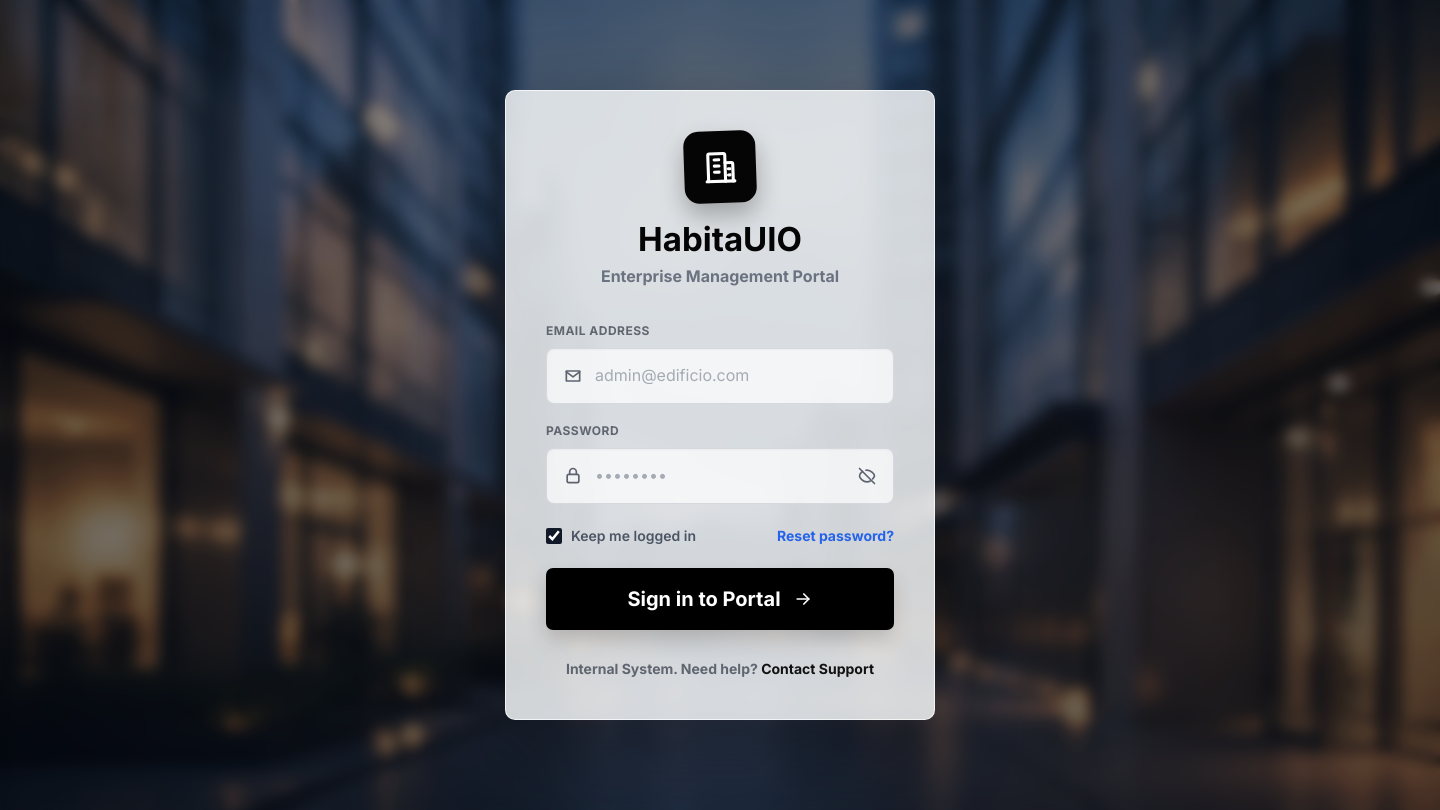
it: LoginPage › test_LoginPage_submit_valid_credentials › deve desabilitar submit button durante loading
The width and height of the screenshot is (1440, 810).
Type "admin@edificios.com" into the field with placeholder "admin@edificio.com" at [737, 376], box [595,364,879,387]
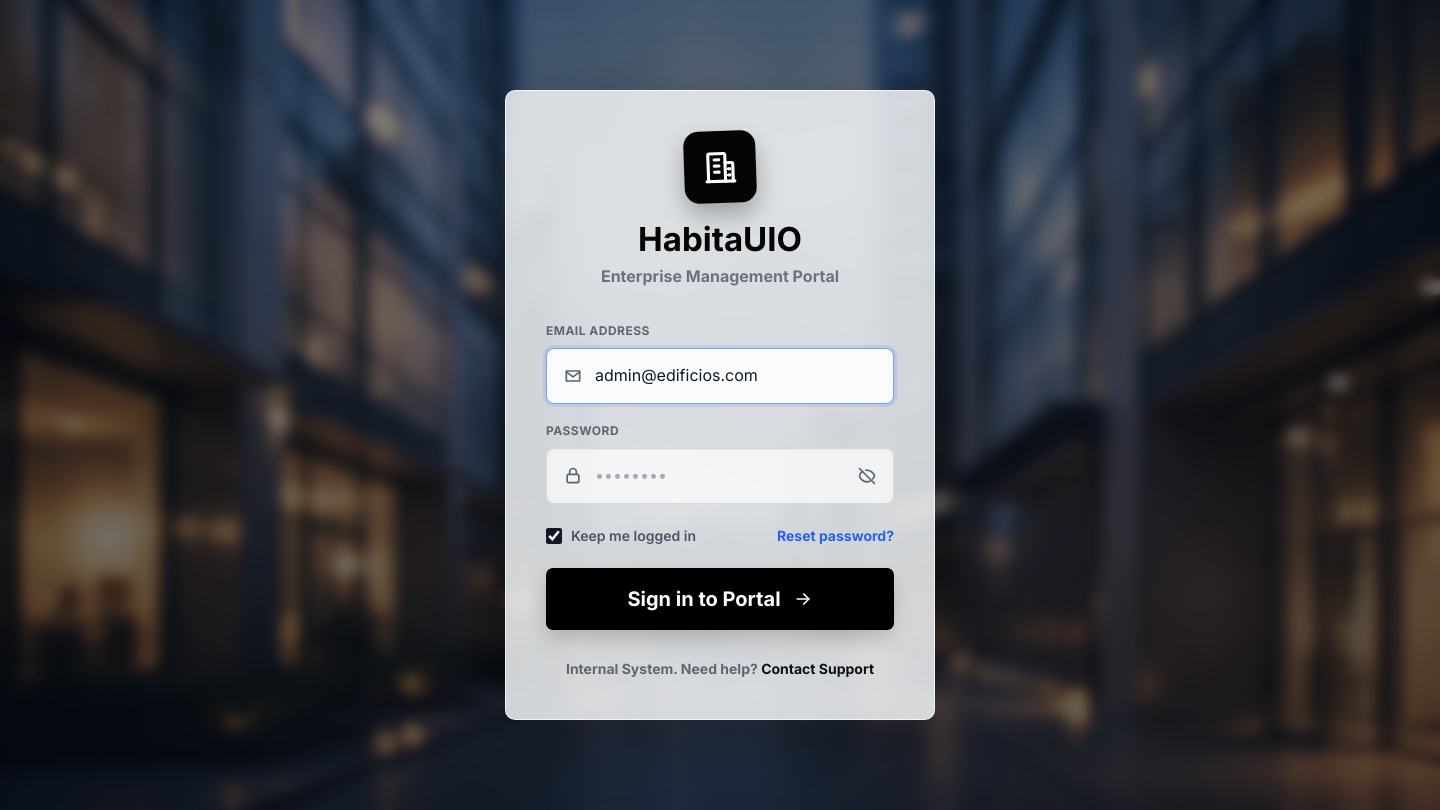
Type "Admin123!" into the password field with placeholder "••••••••" at [720, 476], box [595,464,845,487]
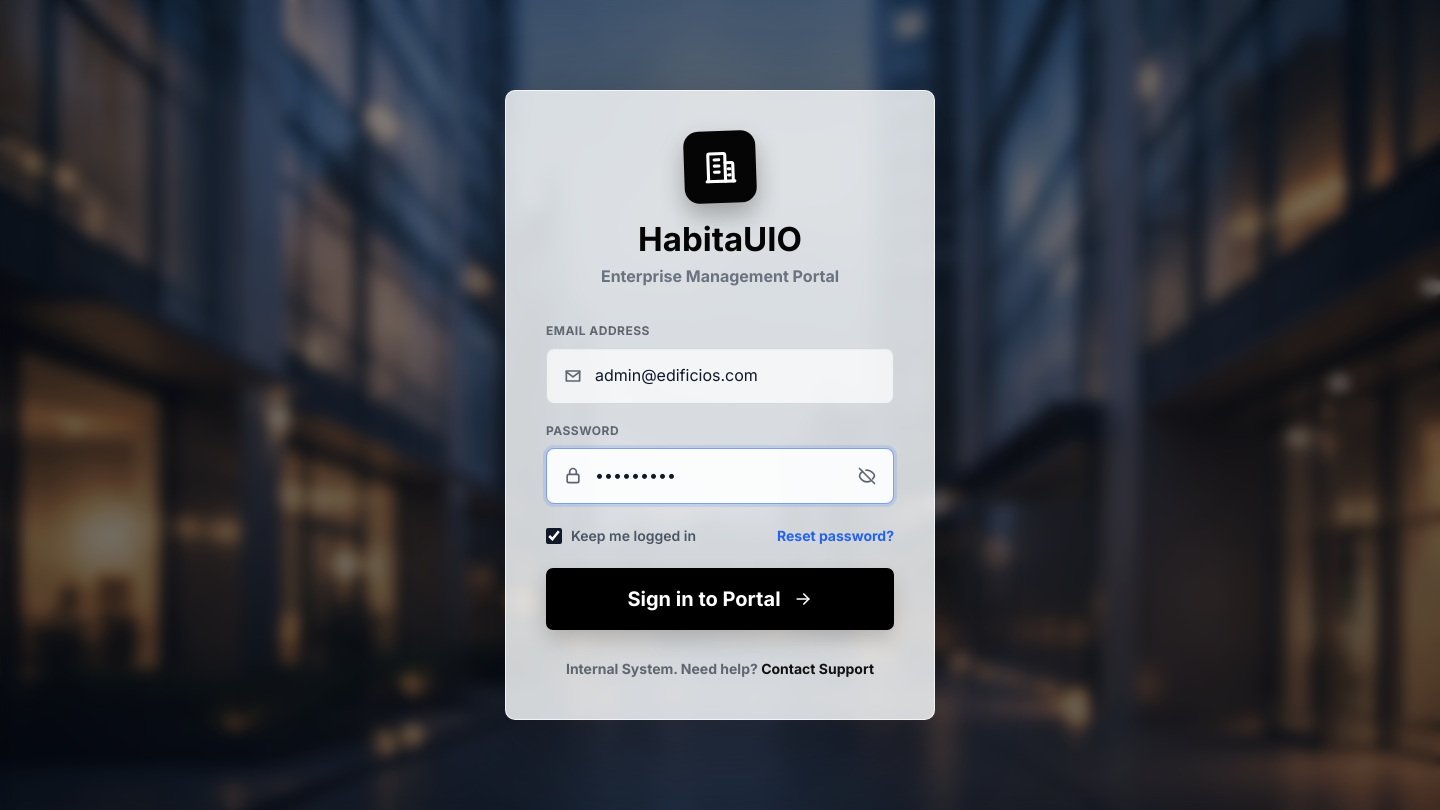
Click the button "Sign in to Portal" at [720, 599], box [546,568,894,630]
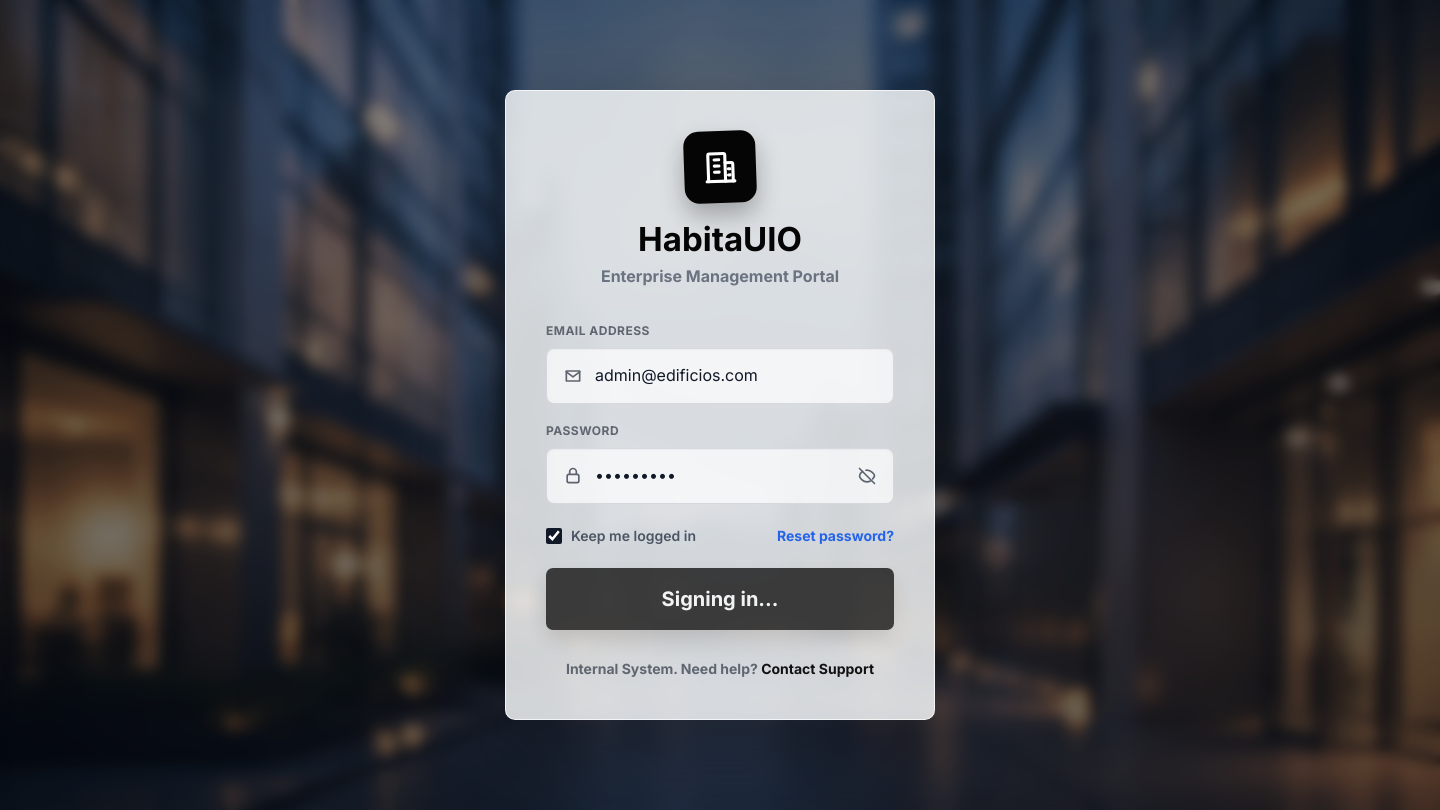
Check: the button named "sign in to portal" is disabled, box [546,568,894,630]
